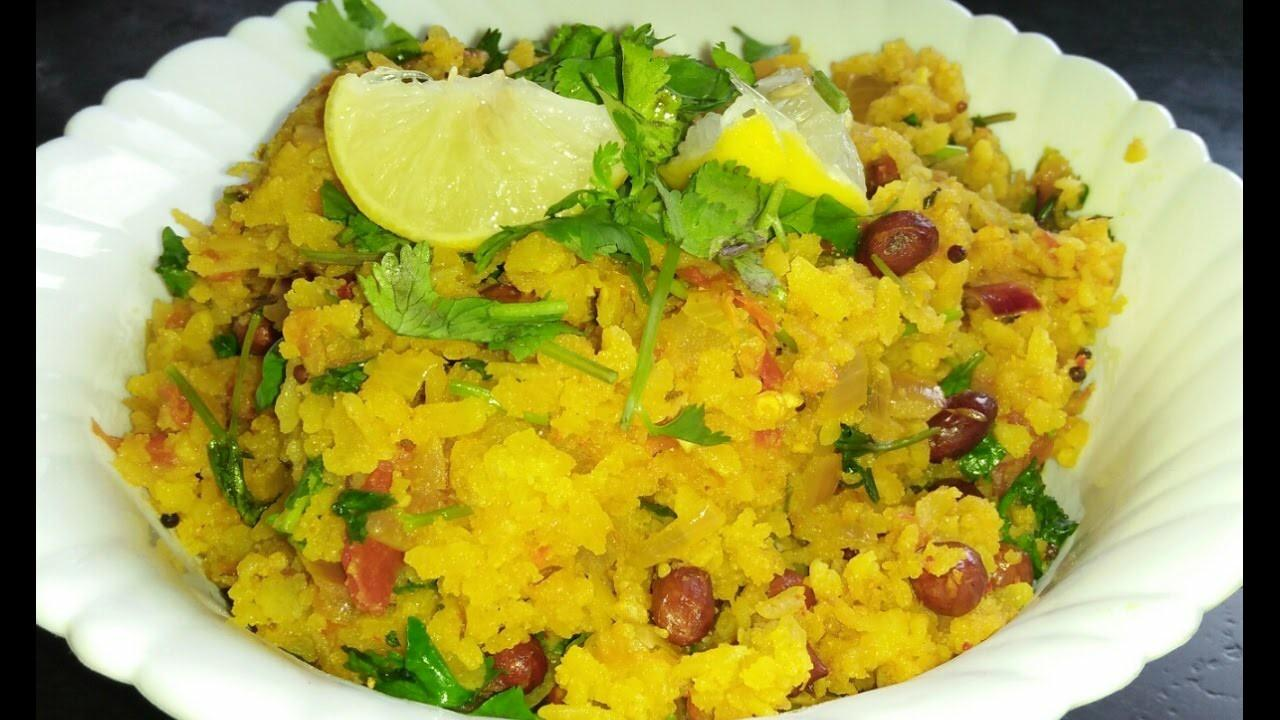Poha: (121, 22, 1133, 720)
